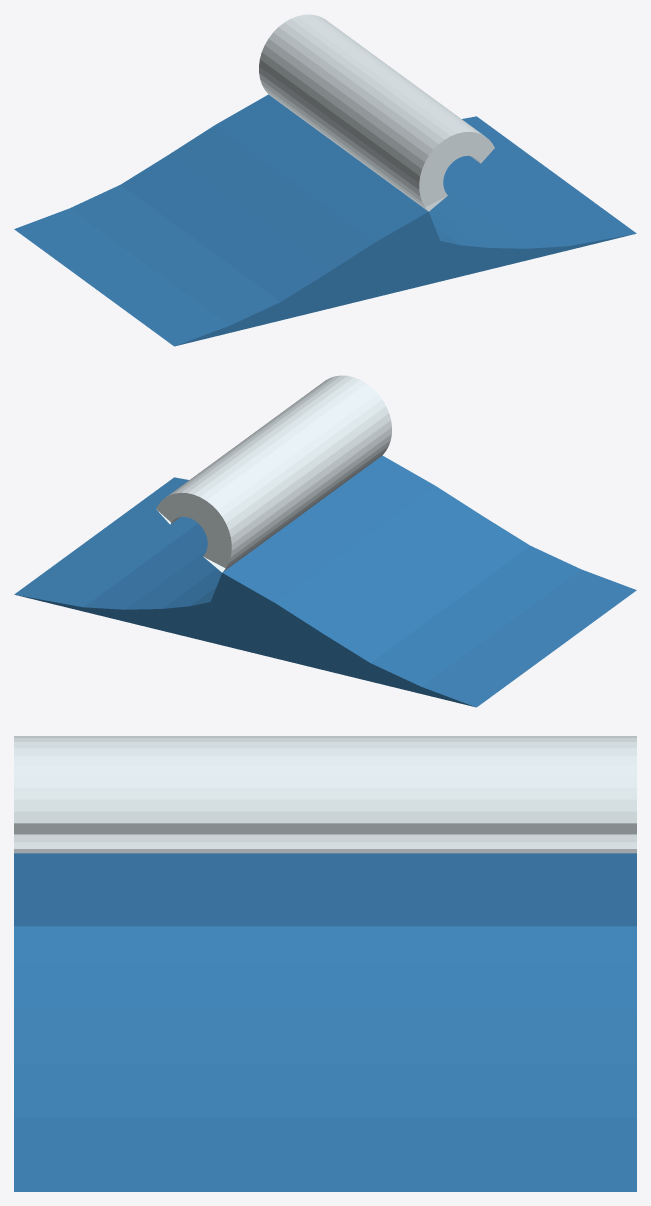
File: wave.obj
3 views of the same model, one above another, from view 1: azimuth 30°, elevation 25°; view 2: azimuth 150°, elevation 25°; view 3: azimuth 270°, elevation 25° (orthographic). The views are drawn at different scales.
Parts seen in each view (by area): view 1: WaveBody, WaveLip, WaveEnds, WaveLipCaps; view 2: WaveBody, WaveLip, WaveEnds, WaveLipCaps; view 3: WaveBody, WaveLip.
Boxes of the visible parts, x1=… form: WaveBody: x1=14, y1=94, x2=636, y2=346; WaveLip: x1=259, y1=14, x2=494, y2=211; WaveEnds: x1=175, y1=212, x2=634, y2=346; WaveLipCaps: x1=419, y1=131, x2=494, y2=207; WaveBody: x1=14, y1=455, x2=636, y2=707; WaveLip: x1=156, y1=375, x2=391, y2=572; WaveEnds: x1=16, y1=573, x2=475, y2=707; WaveLipCaps: x1=156, y1=492, x2=231, y2=568; WaveBody: x1=14, y1=853, x2=636, y2=1191; WaveLip: x1=14, y1=736, x2=636, y2=853.
Bounding box in the file's own units: 2 × 0.5941 × 1.2.
